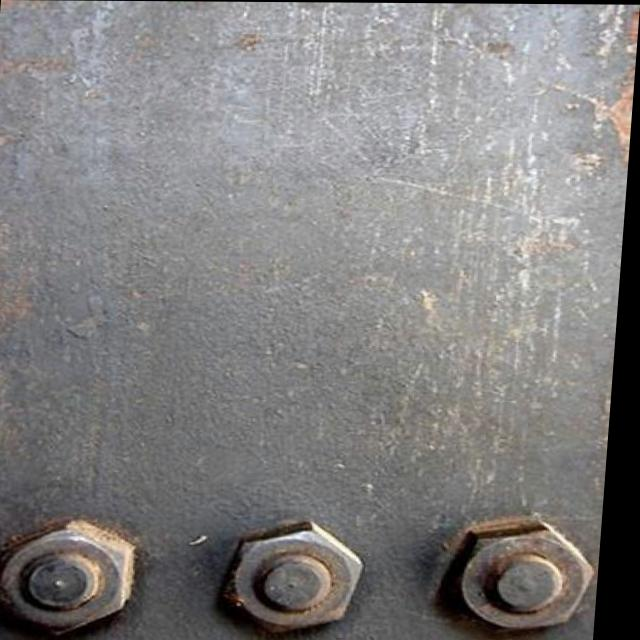Rusty bolt: (4, 517, 150, 636), (230, 523, 378, 635), (460, 525, 605, 634)
